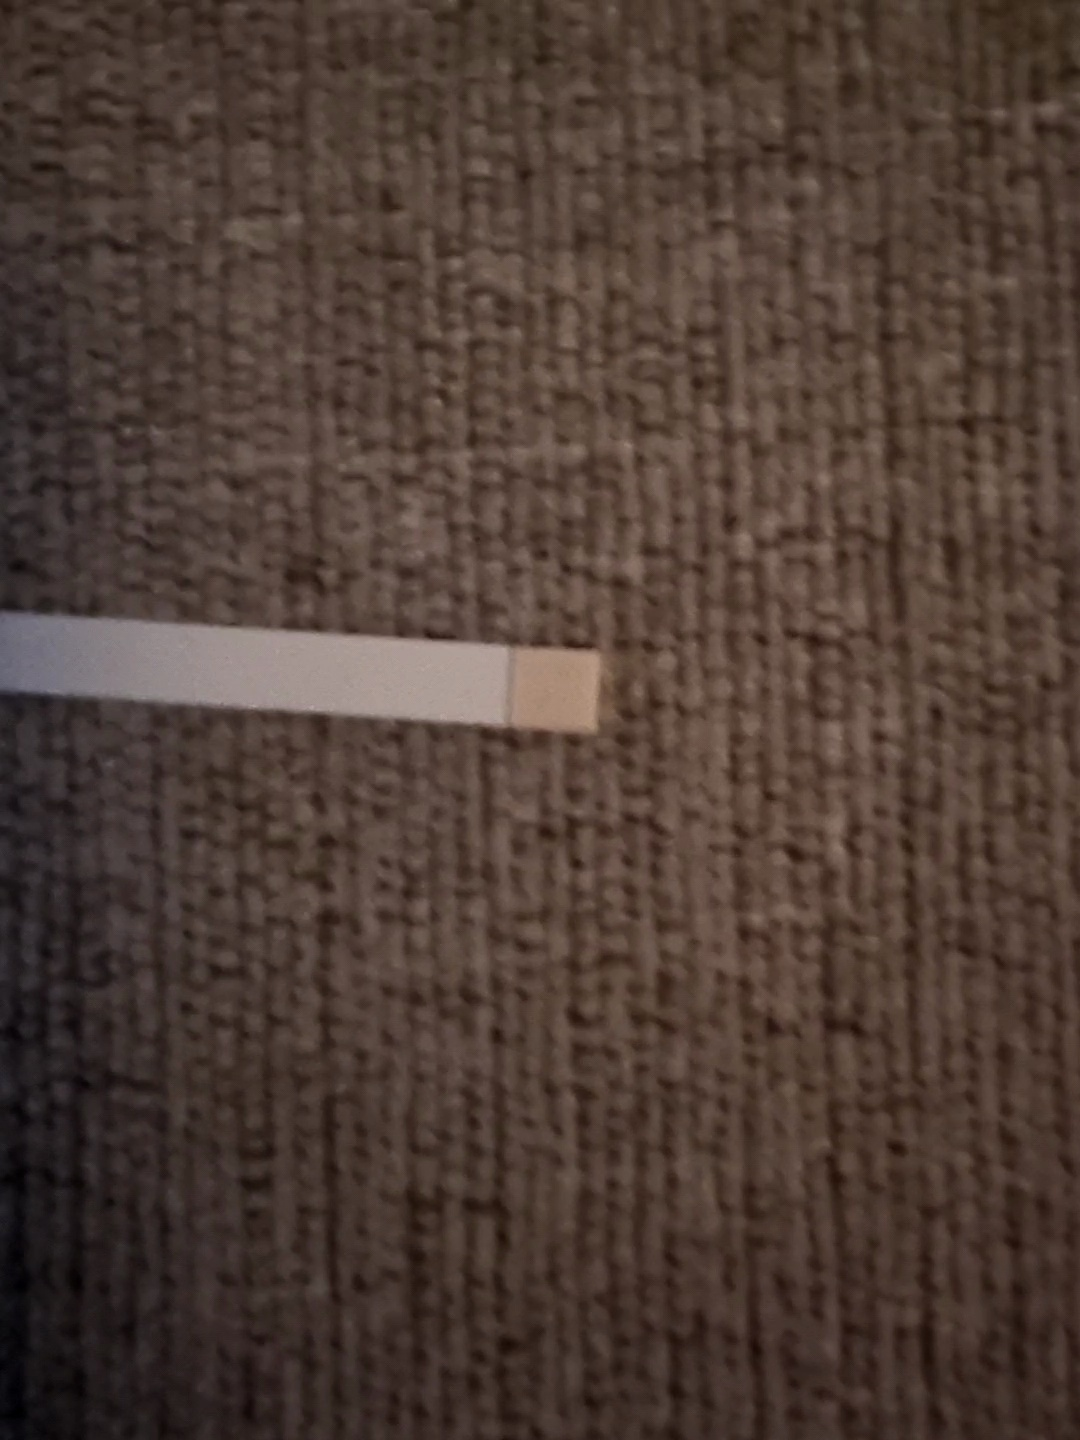keto-tip: (503, 639, 605, 729)
